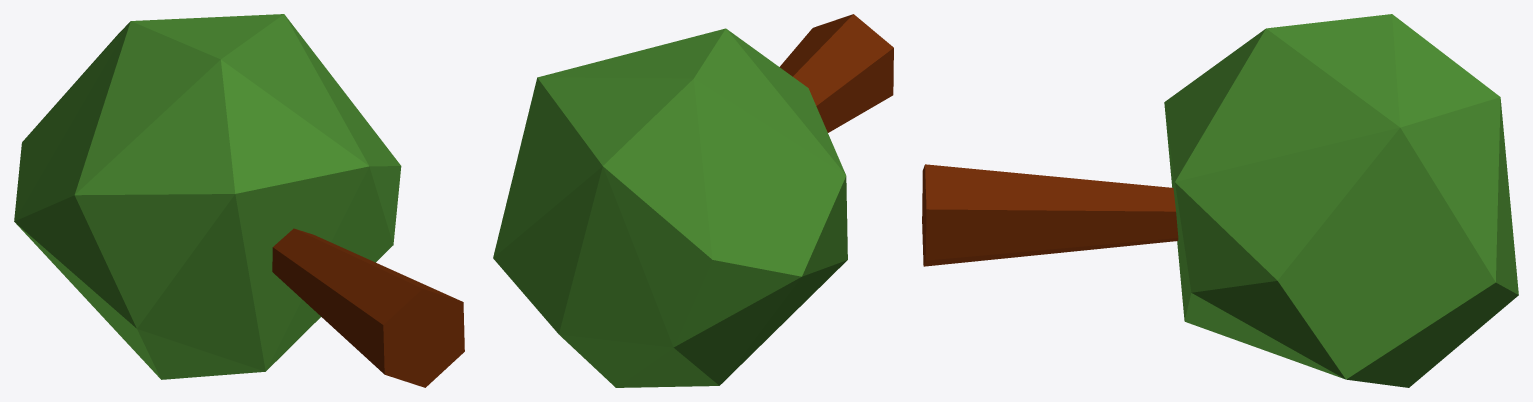
The model's file is treetwo.fbx.
3 views of the same model, side by side, from view 1: azimuth 30°, elevation 25°; view 2: azimuth 150°, elevation 25°; view 3: azimuth 270°, elevation 25° (orthographic). The views are drawn at different scales.
Visible parts, largest first — view 1: Tree; view 2: Tree; view 3: Tree.
Boxes of the visible parts, left/top/right/bottom form: Tree: left=14, top=14, right=464, bottom=387; Tree: left=493, top=14, right=893, bottom=387; Tree: left=922, top=14, right=1518, bottom=387.
Bounding box in the file's own units: 2 × 1.96 × 3.07.
